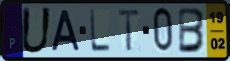0: (151, 6, 175, 56)
A: (50, 9, 82, 53)
B: (178, 7, 207, 55)
L: (88, 8, 113, 54)
T: (117, 8, 142, 53)
U: (19, 6, 54, 56)
